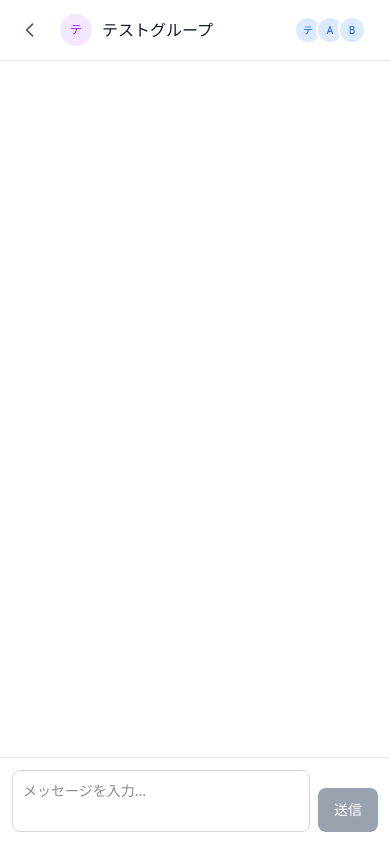
Test: GroupChat › メンバーポップオーバー › アバタークリックでポップオーバーを表示する
Click the button with test id "member-avatars-button" at (330, 30), box [286, 12, 374, 48]
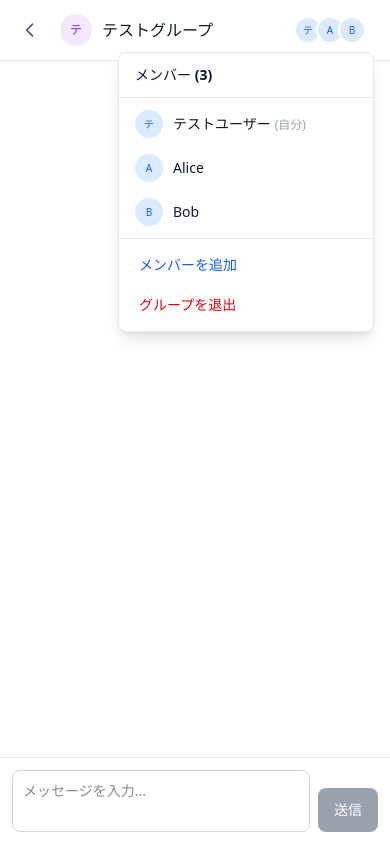
Now the element with test id "member-popover" is shown, box [118, 52, 374, 332]
Now the heading "メンバー (3)" is shown, box [135, 65, 212, 84]
